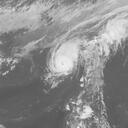cyclone: (47, 42, 78, 77)
